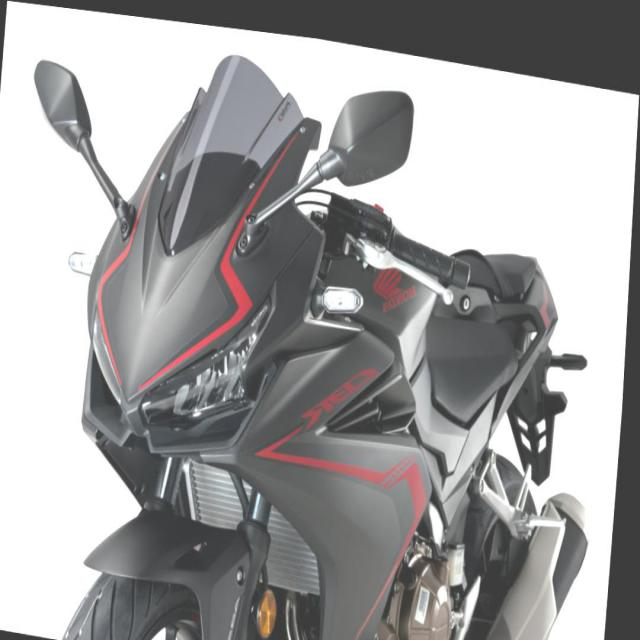CBR500R: (0, 13, 628, 639)
